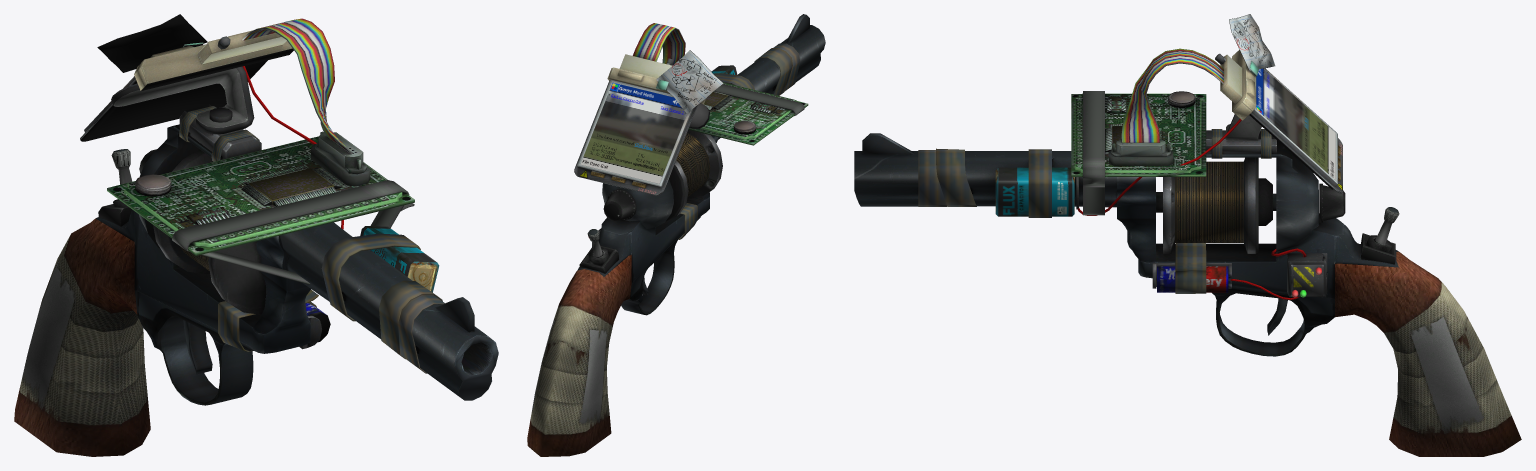
The model's file is toolgun.glb.
The picture shows the model from 3 angles, left to right: view 1: azimuth 30°, elevation 25°; view 2: azimuth 150°, elevation 25°; view 3: azimuth 270°, elevation 25°; orthographic projection. The views are drawn at different scales.
Visible parts, largest first — view 1: w_toolgun_reference; view 2: w_toolgun_reference; view 3: w_toolgun_reference.
Part boxes in pixels (<box>): w_toolgun_reference: <box>14,14,498,456</box>; w_toolgun_reference: <box>527,14,825,456</box>; w_toolgun_reference: <box>854,14,1521,456</box>.
Size of the model in its own units: 4.38 by 9.73 by 14.63.
Materials: 4 (4 with a texture image).
